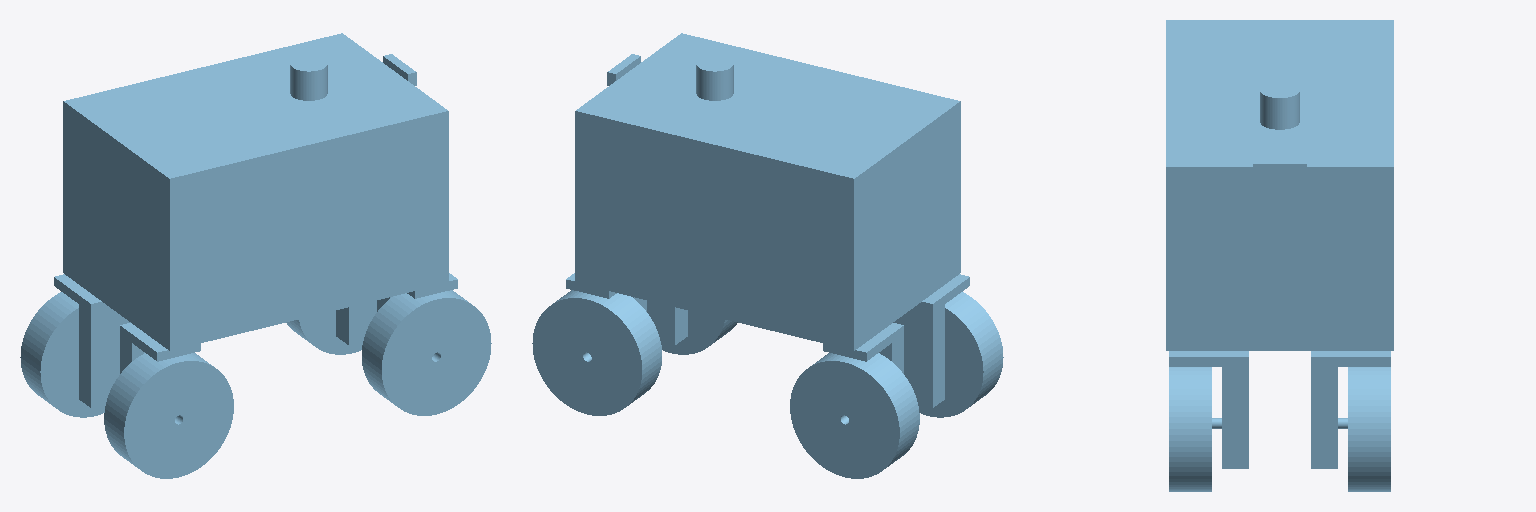
--- Facts derived from the render (not from the file) ---
3 views of the same robot in one strip: view 1: azimuth 30°, elevation 25°; view 2: azimuth 150°, elevation 25°; view 3: azimuth 270°, elevation 25° (orthographic).
Model rover with 19 links and 18 joints (4 revolute, 4 continuous, 10 fixed), rooted at base_footprint, posed every joint at zero.
Links seen in each view (by area): view 1: base_link, rr_wheel_link, fr_wheel_link, rl_wheel_link, rl_steering_link, fl_wheel_link, lidar_link, rr_steering_link, fl_steering_link; view 2: base_link, rl_wheel_link, fl_wheel_link, rr_wheel_link, rr_steering_link, fr_wheel_link, lidar_link, rl_steering_link, fr_steering_link; view 3: base_link, fr_wheel_link, fl_wheel_link, fr_steering_link, fl_steering_link, lidar_link, camera_link.
Link boxes in pixels (left/top/right/bottom): base_link: left=63, top=33, right=448, bottom=350; rr_wheel_link: left=104, top=353, right=233, bottom=478; fr_wheel_link: left=362, top=290, right=491, bottom=415; rl_wheel_link: left=20, top=292, right=105, bottom=417; rl_steering_link: left=54, top=274, right=130, bottom=407; fl_wheel_link: left=286, top=310, right=362, bottom=354; lidar_link: left=290, top=56, right=327, bottom=100; rr_steering_link: left=120, top=323, right=200, bottom=373; fl_steering_link: left=336, top=300, right=376, bottom=344; base_link: left=575, top=33, right=960, bottom=350; rl_wheel_link: left=790, top=353, right=919, bottom=478; fl_wheel_link: left=532, top=290, right=661, bottom=415; rr_wheel_link: left=918, top=292, right=1003, bottom=417; rr_steering_link: left=893, top=274, right=969, bottom=407; fr_wheel_link: left=661, top=310, right=737, bottom=354; lidar_link: left=696, top=56, right=733, bottom=100; rl_steering_link: left=823, top=323, right=903, bottom=373; fr_steering_link: left=647, top=300, right=687, bottom=344; base_link: left=1166, top=20, right=1393, bottom=350; fr_wheel_link: left=1169, top=367, right=1211, bottom=491; fl_wheel_link: left=1348, top=367, right=1390, bottom=491; fr_steering_link: left=1169, top=351, right=1248, bottom=468; fl_steering_link: left=1311, top=351, right=1390, bottom=468; lidar_link: left=1260, top=81, right=1299, bottom=129; camera_link: left=1253, top=159, right=1306, bottom=177.
Size in the robot's own frame: 0.849 by 0.425 by 0.732 metres.
Meshes: 5 distinct files referenced, 11 mesh visuals loaded (5 binary STL).

The robot description file, URDF, robot "rover":
<robot name="rover">
<link name="base_footprint">
<inertial>
<origin xyz="0 0 0" rpy="0 0 0"/>
<mass value="0" />
<inertia ixx="0" ixy="0"  ixz="0" iyy="0" iyz="0" izz="0" />
</inertial>
</link>

<link name="base_link">
<visual>
<origin xyz="-2.798540501062457092e-17 6.1093673644573049834e-18 0" rpy="0 -5.1977048828224496093e-113 0" />
<geometry>
<mesh filename="package://rover_description/urdf/rover/base_link.stl"/>
</geometry>
<material name="base_link_material">
<color rgba="0.61568627450980395466 0.81176470588235294379 0.92941176470588238168 1.0"/>
</material>
</visual>
<collision>
<origin xyz="-2.798540501062457092e-17 6.1093673644573049834e-18 0" rpy="0 -5.1977048828224496093e-113 0" />
<geometry>
<mesh filename="package://rover_description/urdf/rover/base_link.stl"/>
</geometry>
</collision>
<inertial>
<origin xyz="-5.5267729493257816212e-18 6.3769590725128424662e-18 0.19001085791228139454" rpy="0 0 0"/>
<mass value="40" />
<inertia ixx="1.0833233794146899243" ixy="-1.8675004218029757146e-16"  ixz="5.630795218859451012e-113" iyy="1.8679041881453550822" iyz="-9.7067160610783111063e-129" izz="1.9886593553962703673" />
</inertial>
</link>

<link name="rr_steering_link">
<visual>
<origin xyz="0 -0.099999999999999977796 -0.23000000000000000999" rpy="0 -0 -3.5371013739549831335e-45" />
<geometry>
<mesh filename="package://rover_description/urdf/rover/steering_link.stl"/>
</geometry>
<material name="steering_link_material">
<color rgba="0.61568627450980395466 0.81176470588235294379 0.92941176470588238168 1.0"/>
</material>
</visual>
<collision>
<origin xyz="0 -0.099999999999999977796 -0.23000000000000000999" rpy="0 -0 -3.5371013739549831335e-45" />
<geometry>
<mesh filename="package://rover_description/urdf/rover/steering_link.stl"/>
</geometry>
</collision>
<inertial>
<origin xyz="2.5048502339963977633e-18 -0.088691628255863019792 -0.10069461572907584257" rpy="0 0 0"/>
<mass value="0.99999999999999988898" />
<inertia ixx="0.0061121872660202690095" ixy="-3.5428631502324024239e-45"  ixz="5.4011044810356159022e-46" iyy="0.0059423770522869772542" iyz="-0.00091147906360536856338" izz="0.0018215670507348868425" />
</inertial>
</link>

<link name="rr_wheel_link">
<visual>
<origin xyz="0 0 0" rpy="1.570796326794896558 1.570796326794896558 0" />
<geometry>
<mesh filename="package://rover_description/urdf/rover/wheel.stl"/>
</geometry>
<material name="wheel_material">
<color rgba="0.61568627450980395466 0.81176470588235294379 0.92941176470588238168 1.0"/>
</material>
</visual>
<collision>
<origin xyz="0 0 0" rpy="1.570796326794896558 1.570796326794896558 0" />
<geometry>
<mesh filename="package://rover_description/urdf/rover/wheel.stl"/>
</geometry>
</collision>
<inertial>
<origin xyz="-1.8236700169436135526e-53 -1.0310768331388757477e-17 -3.6470232831486701118e-62" rpy="0 0 0"/>
<mass value="2" />
<inertia ixx="0.0091811666666666656017" ixy="0"  ixz="0" iyy="0.0091811666666666690712" iyz="9.6492095521497396071e-45" izz="0.01622900000000000037" />
</inertial>
</link>

<joint name="rr_wheel_joint" type="continuous">
<origin xyz="-1.1102230246251565404e-16 -0.014999999999999985567 -0.16000000000000000333" rpy="1.570796326794896558 1.570796326794896558 0" />
<parent link="rr_steering_link" />
<child link="rr_wheel_link" />
<axis xyz="0 0 1"/>
<limit effort="1.5" velocity="22" />
<joint_properties friction="0.0"/>
</joint>

<joint name="rr_steering_joint" type="revolute">
<origin xyz="-0.29750000000000176303 -0.18249999999999486078 0" rpy="2.7341918974960333747e-27 3.8285686989646017659e-16 -3.1415926535897691352" />
<parent link="base_link" />
<child link="rr_steering_link" />
<axis xyz="0 0 1"/>
<limit effort="1.5" velocity="22" lower="-3.141592653589793116" upper="3.141592653589793116"/>
<joint_properties friction="0.0"/>
</joint>

<link name="rl_steering_link">
<visual>
<origin xyz="0 -0.099999999999999991673 -0.23000000000000000999" rpy="0 -0 -6.4520195853714940548e-45" />
<geometry>
<mesh filename="package://rover_description/urdf/rover/steering_link.stl"/>
</geometry>
<material name="steering_link_material">
<color rgba="0.61568627450980395466 0.81176470588235294379 0.92941176470588238168 1.0"/>
</material>
</visual>
<collision>
<origin xyz="0 -0.099999999999999991673 -0.23000000000000000999" rpy="0 -0 -6.4520195853714940548e-45" />
<geometry>
<mesh filename="package://rover_description/urdf/rover/steering_link.stl"/>
</geometry>
</collision>
<inertial>
<origin xyz="2.5048502339963977633e-18 -0.08869162825586303367 -0.10069461572907584257" rpy="0 0 0"/>
<mass value="0.99999999999999988898" />
<inertia ixx="0.0061121872660202690095" ixy="-4.7249230382039756353e-45"  ixz="7.1868939724556140696e-46" iyy="0.0059423770522869772542" iyz="-0.00091147906360536856338" izz="0.0018215670507348868425" />
</inertial>
</link>

<link name="rl_wheel_link">
<visual>
<origin xyz="0 0 0" rpy="1.570796326794896558 1.570796326794896558 0" />
<geometry>
<mesh filename="package://rover_description/urdf/rover/wheel.stl"/>
</geometry>
<material name="wheel_material">
<color rgba="0.61568627450980395466 0.81176470588235294379 0.92941176470588238168 1.0"/>
</material>
</visual>
<collision>
<origin xyz="0 0 0" rpy="1.570796326794896558 1.570796326794896558 0" />
<geometry>
<mesh filename="package://rover_description/urdf/rover/wheel.stl"/>
</geometry>
</collision>
<inertial>
<origin xyz="-1.8236700169436135526e-53 -1.0310768331388757477e-17 1.176635466657525221e-97" rpy="0 0 0"/>
<mass value="2" />
<inertia ixx="0.0091811666666666656017" ixy="0"  ixz="-1.2855592675981450913e-44" iyy="0.0091811666666666690712" iyz="0" izz="0.01622900000000000037" />
</inertial>
</link>

<joint name="rl_wheel_joint" type="continuous">
<origin xyz="-5.5511151231257827021e-17 -0.015000000000000013323 -0.16000000000000000333" rpy="-1.570796326794896558 2.5243548967072377773e-29 -6.4520195853711717026e-45" />
<parent link="rl_steering_link" />
<child link="rl_wheel_link" />
<axis xyz="0 0 1"/>
<limit effort="1.5" velocity="22" />
<joint_properties friction="0.0"/>
</joint>

<joint name="rl_steering_joint" type="revolute">
<origin xyz="-0.2975000000000000977 0.18250000000000013434 0" rpy="-2.7468136719795358428e-27 -5.0532154981114325992e-16 1.6829674908629561938e-14" />
<parent link="base_link" />
<child link="rl_steering_link" />
<axis xyz="0 0 1"/>
<limit effort="1.5" velocity="22" lower="-3.141592653589793116" upper="3.141592653589793116"/>
<joint_properties friction="0.0"/>
</joint>

<link name="fr_steering_link">
<visual>
<origin xyz="5.5511151231257827021e-17 -0.10000000000000000555 -0.23000000000000000999" rpy="0 -0 0" />
<geometry>
<mesh filename="package://rover_description/urdf/rover/steering_link.stl"/>
</geometry>
<material name="steering_link_material">
<color rgba="0.61568627450980395466 0.81176470588235294379 0.92941176470588238168 1.0"/>
</material>
</visual>
<collision>
<origin xyz="5.5511151231257827021e-17 -0.10000000000000000555 -0.23000000000000000999" rpy="0 -0 0" />
<geometry>
<mesh filename="package://rover_description/urdf/rover/steering_link.stl"/>
</geometry>
</collision>
<inertial>
<origin xyz="5.8016001465254228636e-17 -0.088691628255863047547 -0.10069461572907584257" rpy="0 0 0"/>
<mass value="0.99999999999999988898" />
<inertia ixx="0.0061121872660202690095" ixy="0"  ixz="0" iyy="0.0059423770522869772542" iyz="-0.00091147906360536856338" izz="0.0018215670507348868425" />
</inertial>
</link>

<link name="fr_wheel_link">
<visual>
<origin xyz="0 0 0" rpy="1.570796326794896558 1.570796326794896558 0" />
<geometry>
<mesh filename="package://rover_description/urdf/rover/wheel.stl"/>
</geometry>
<material name="wheel_material">
<color rgba="0.61568627450980395466 0.81176470588235294379 0.92941176470588238168 1.0"/>
</material>
</visual>
<collision>
<origin xyz="0 0 0" rpy="1.570796326794896558 1.570796326794896558 0" />
<geometry>
<mesh filename="package://rover_description/urdf/rover/wheel.stl"/>
</geometry>
</collision>
<inertial>
<origin xyz="-1.8236700169436135526e-53 -1.0310768331388757477e-17 -3.3108659528003041048e-75" rpy="0 0 0"/>
<mass value="2" />
<inertia ixx="0.0091811666666666656017" ixy="0"  ixz="0" iyy="0.0091811666666666690712" iyz="1.280242363083174067e-32" izz="0.01622900000000000037" />
</inertial>
</link>

<joint name="fr_wheel_joint" type="continuous">
<origin xyz="5.5511151231257827021e-17 -0.014999999999999985567 -0.16000000000000000333" rpy="1.570796326794896558 1.570796326794896558 0" />
<parent link="fr_steering_link" />
<child link="fr_wheel_link" />
<axis xyz="0 0 1"/>
<limit effort="1.5" velocity="22" />
<joint_properties friction="0.0"/>
</joint>

<joint name="fr_steering_joint" type="revolute">
<origin xyz="0.29749999999999998668 -0.18250000000000007883 0" rpy="1.1864468014523915315e-27 3.5032461608120426773e-46 -3.141592653589793116" />
<parent link="base_link" />
<child link="fr_steering_link" />
<axis xyz="0 0 1"/>
<limit effort="1.5" velocity="22" lower="-3.141592653589793116" upper="3.141592653589793116"/>
<joint_properties friction="0.0"/>
</joint>

<link name="fl_steering_link">
<visual>
<origin xyz="0 -0.10000000000000000555 -0.23000000000000000999" rpy="0 -0 2.7904965608089986245e-104" />
<geometry>
<mesh filename="package://rover_description/urdf/rover/steering_link.stl"/>
</geometry>
<material name="steering_link_material">
<color rgba="0.61568627450980395466 0.81176470588235294379 0.92941176470588238168 1.0"/>
</material>
</visual>
<collision>
<origin xyz="0 -0.10000000000000000555 -0.23000000000000000999" rpy="0 -0 2.7904965608089986245e-104" />
<geometry>
<mesh filename="package://rover_description/urdf/rover/steering_link.stl"/>
</geometry>
</collision>
<inertial>
<origin xyz="2.5048502339963977633e-18 -0.088691628255863047547 -0.10069461572907584257" rpy="0 0 0"/>
<mass value="0.99999999999999988898" />
<inertia ixx="0.0061121872660202690095" ixy="4.7385481741334085412e-108"  ixz="2.5434791922401337913e-107" iyy="0.0059423770522869772542" iyz="-0.00091147906360536856338" izz="0.0018215670507348868425" />
</inertial>
</link>

<link name="fl_wheel_link">
<visual>
<origin xyz="0 -2.7755575615628913511e-17 0" rpy="1.570796326794896558 1.570796326794896558 0" />
<geometry>
<mesh filename="package://rover_description/urdf/rover/wheel.stl"/>
</geometry>
<material name="wheel_material">
<color rgba="0.61568627450980395466 0.81176470588235294379 0.92941176470588238168 1.0"/>
</material>
</visual>
<collision>
<origin xyz="0 -2.7755575615628913511e-17 0" rpy="1.570796326794896558 1.570796326794896558 0" />
<geometry>
<mesh filename="package://rover_description/urdf/rover/wheel.stl"/>
</geometry>
</collision>
<inertial>
<origin xyz="-1.8236700169436135526e-53 -3.8066343947017672528e-17 -2.212099860970205564e-86" rpy="0 0 0"/>
<mass value="2" />
<inertia ixx="0.0091811666666666656017" ixy="0"  ixz="3.0822366781446657224e-35" iyy="0.0091811666666666690712" iyz="0" izz="0.01622900000000000037" />
</inertial>
</link>

<joint name="fl_wheel_joint" type="continuous">
<origin xyz="0 -0.015000000000000041078 -0.16000000000000000333" rpy="-1.570796326794896558 -5.5511151231257925629e-17 -5.1336471294911238066e-17" />
<parent link="fl_steering_link" />
<child link="fl_wheel_link" />
<axis xyz="0 0 1"/>
<limit effort="1.5" velocity="22" />
<joint_properties friction="0.0"/>
</joint>

<joint name="fl_steering_joint" type="revolute">
<origin xyz="0.29749999999999993117 0.18250000000000002331 0" rpy="-1.1864468014524126967e-27 1.0593816390296488477e-42 8.8817841970015442019e-16" />
<parent link="base_link" />
<child link="fl_steering_link" />
<axis xyz="0 0 1"/>
<limit effort="1.5" velocity="22" lower="-3.141592653589793116" upper="3.141592653589793116"/>
<joint_properties friction="0.0"/>
</joint>

<link name="lidar_link">
<visual>
<origin xyz="0 -2.2962127484012875716e-18 -0.029000000000000025757" rpy="0 -0 0" />
<geometry>
<mesh filename="package://rover_description/urdf/rover/lidar_link.stl"/>
</geometry>
<material name="lidar_link_material">
<color rgba="0.61568627450980395466 0.81176470588235294379 0.92941176470588238168 1.0"/>
</material>
</visual>
<collision>
<origin xyz="0 -2.2962127484012875716e-18 -0.029000000000000025757" rpy="0 -0 0" />
<geometry>
<mesh filename="package://rover_description/urdf/rover/lidar_link.stl"/>
</geometry>
</collision>
<inertial>
<origin xyz="8.0292509306519218601e-19 3.8518598887744717061e-34 0.003499999999999975353" rpy="0 0 0"/>
<mass value="0.30209358607378605788" />
<inertia ixx="0.0002125668931175443005" ixy="2.7664970832468516446e-129"  ixz="0" iyy="0.0002125668931175443276" iyz="0" izz="0.00021240955270813093687" />
</inertial>
</link>

<joint name="lidar_joint" type="fixed">
<origin xyz="0.12249999999999997002 6.1093673644576578138e-18 0.40899999999999997469" rpy="-9.5925486074876183482e-28 5.5637880468010420896e-97 4.6894542932646612788e-70" />
<parent link="base_link" />
<child link="lidar_link" />
<axis xyz="0 0 1"/>
<limit effort="1.5" velocity="22" />
<joint_properties friction="0.0"/>
</joint>

<link name="imu_link">
<inertial>
<origin xyz="0 0 0" rpy="0 0 0"/>
<mass value="0" />
<inertia ixx="0" ixy="0"  ixz="0" iyy="0" iyz="0" izz="0" />
</inertial>
</link>

<joint name="imu_joint" type="fixed">
<origin xyz="0.12249999999999997002 6.1093673644576593545e-18 0.40899999999999997469" rpy="-5.5511151232446270627e-17 8.9923910584377721832e-16 -2.7117093616972959565e-31" />
<parent link="base_link" />
<child link="imu_link" />
<axis xyz="0 0 1"/>
<limit effort="1.5" velocity="22" />
<joint_properties friction="0.0"/>
</joint>

<link name="gps_link">
<inertial>
<origin xyz="0 0 0" rpy="0 0 0"/>
<mass value="0" />
<inertia ixx="0" ixy="0"  ixz="0" iyy="0" iyz="0" izz="0" />
</inertial>
</link>

<joint name="gps_joint" type="fixed">
<origin xyz="0.12249999999999997002 6.1093673644576608953e-18 0.40899999999999997469" rpy="-5.5511151232457807718e-17 8.9923910584377721832e-16 -2.4651903288156579508e-31" />
<parent link="base_link" />
<child link="gps_link" />
<axis xyz="0 0 1"/>
<limit effort="1.5" velocity="22" />
<joint_properties friction="0.0"/>
</joint>

<link name="camera_link">
<visual>
<origin xyz="-0.010000000000000008882 0 -2.3322217863181845357e-17" rpy="-1.570796326794896558 1.570796326794896558 0" />
<geometry>
<mesh filename="package://rover_description/urdf/rover/camera_link.stl"/>
</geometry>
<material name="camera_link_material">
<color rgba="0.61568627450980395466 0.81176470588235294379 0.92941176470588238168 1.0"/>
</material>
</visual>
<collision>
<origin xyz="-0.010000000000000008882 0 -2.3322217863181845357e-17" rpy="-1.570796326794896558 1.570796326794896558 0" />
<geometry>
<mesh filename="package://rover_description/urdf/rover/camera_link.stl"/>
</geometry>
</collision>
<inertial>
<origin xyz="-0.010293814432989699739 5.5548728130610748964e-18 -2.0678055447695336036e-17" rpy="0 0 0"/>
<mass value="0.061226400000000021084" />
<inertia ixx="5.5992700000000003482e-05" ixy="0"  ixz="3.0245200390706104662e-21" iyy="5.3249479313402056538e-05" iyz="0" izz="6.5985393134020647296e-06" />
</inertial>
</link>

<joint name="camera_joint" type="fixed">
<origin xyz="0.34249999999999997113 6.1093673644585314156e-18 0.38000000000000005995" rpy="-1.570796326794896558 -6.1232339957370680217e-17 -6.1232339957366809868e-17" />
<parent link="base_link" />
<child link="camera_link" />
<axis xyz="0 0 1"/>
<limit effort="1.5" velocity="22" />
<joint_properties friction="0.0"/>
</joint>

<joint name="base_link_joint" type="fixed">
<origin xyz="-6.1629758220391547298e-33 -3.5360073778949650262e-31 0.28699999999999997735" rpy="1.1864468014523915315e-27 -0 -2.1680136497538192772e-70" />
<parent link="base_footprint" />
<child link="base_link" />
<axis xyz="0 0 1"/>
<limit effort="1.5" velocity="22" />
<joint_properties friction="0.0"/>
</joint>

<ros2_control name="GazeboSystem" type="system">
<hardware>
    <plugin>gazebo_ros2_control/GazeboSystem</plugin>
</hardware>

<joint name="fl_wheel_joint">
    <command_interface name="velocity">
    <param name="min">-3.14</param>
    <param name="max">3.14</param>
    </command_interface>
    <state_interface name="velocity"/>
    <state_interface name="effort"/>
</joint>

<joint name="fr_wheel_joint">
    <command_interface name="velocity">
    <param name="min">-3.14</param>
    <param name="max">3.14</param>
    </command_interface>
    <state_interface name="velocity"/>
    <state_interface name="effort"/>
</joint>

<joint name="rl_wheel_joint">
    <command_interface name="velocity">
    <param name="min">-3.14</param>
    <param name="max">3.14</param>
    </command_interface>
    <state_interface name="velocity"/>
    <state_interface name="effort"/>
</joint>

<joint name="rr_wheel_joint">
    <command_interface name="velocity">
    <param name="min">-3.14</param>
    <param name="max">3.14</param>
    </command_interface>
    <state_interface name="velocity"/>
    <state_interface name="effort"/>
</joint>

<joint name="fl_steering_joint">
    <command_interface name="position">
    <param name="min">-3.14</param>
    <param name="max">3.14</param>
    </command_interface>
    <state_interface name="position"/>
    <state_interface name="effort"/>
</joint>

<joint name="fr_steering_joint">
    <command_interface name="position">
    <param name="min">-3.14</param>
    <param name="max">3.14</param>
    </command_interface>
    <state_interface name="position"/>
    <state_interface name="effort"/>
</joint>

<joint name="rl_steering_joint">
    <command_interface name="position">
    <param name="min">-3.14</param>
    <param name="max">3.14</param>
    </command_interface>
    <state_interface name="position"/>
    <state_interface name="effort"/>
</joint>

<joint name="rr_steering_joint">
    <command_interface name="position">
    <param name="min">-3.14</param>
    <param name="max">3.14</param>
    </command_interface>
    <state_interface name="position"/>
    <state_interface name="effort"/>
</joint>
</ros2_control>

<gazebo>
<plugin name="four_ws_robot_joint_state" filename="libgazebo_ros_joint_state_publisher.so">
    <ros>
    <remapping>~/out:=joint_states</remapping>
    </ros>
    <update_rate>30</update_rate>
    <joint_name>fl_wheel_joint</joint_name>
    <joint_name>fr_wheel_joint</joint_name>
    <joint_name>rl_wheel_joint</joint_name>
    <joint_name>rr_wheel_joint</joint_name>
    <joint_name>fl_steering_joint</joint_name>
    <joint_name>fr_steering_joint</joint_name>
    <joint_name>rl_steering_joint</joint_name>
    <joint_name>rr_steering_joint</joint_name>
</plugin>

<plugin name="gazebo_ros2_control" filename="libgazebo_ros2_control.so">
    <parameters>[local-path]/ros2_ws/install/rover_description/share/rover_description/config/controllers.yaml</parameters>
</plugin>
</gazebo>

<gazebo reference="lidar_link">
<sensor name="lidar" type="ray">
    <pose>0 0 0 0 0 0</pose>
    <always_on>true</always_on>
    <visualize>false</visualize>
    <update_rate>10</update_rate>
    <ray>
    <scan>
        <horizontal>
        <samples>360</samples>
        <resolution>1.00000</resolution>
        <min_angle>0.000000</min_angle>
        <max_angle>6.280000</max_angle>
        </horizontal>
        <vertical>
        <samples>90</samples>
        <resolution>1.00000</resolution>
        <min_angle>0.0</min_angle>
        <max_angle>1.5708</max_angle>
        </vertical>
    </scan>
    <range>
        <min>0.10</min>
        <max>30.00</max>
        <resolution>0.015000</resolution>
    </range>
    <noise>
        <type>gaussian</type>
        <mean>0.0</mean>
        <stddev>0.01</stddev>
    </noise>
    </ray>
    <plugin name="scan" filename="libgazebo_ros_ray_sensor.so">
    <ros>
        <namespace>rover</namespace>
        <remapping>~/out:=unitree/lidar_points</remapping>
    </ros>
    <output_type>sensor_msgs/PointCloud2</output_type>
    <frame_name>lidar_link</frame_name>
    </plugin>
</sensor>
</gazebo>
<gazebo reference="imu_link">
<sensor name="imu_sensor" type="imu">
    <pose>0 0 0 0 0 0</pose>
    <always_on>true</always_on>
    <update_rate>10.0</update_rate>

    <imu>
    <angular_velocity>
        <noise>
        <type>gaussian</type>
        <mean>0.0</mean>
        <stddev>0.01</stddev>
        </noise>
    </angular_velocity>

    <linear_acceleration>
        <noise>
        <type>gaussian</type>
        <mean>0.0</mean>
        <stddev>0.01</stddev>
        </noise>
    </linear_acceleration>

    <orientation>
        <noise>
        <type>gaussian</type>
        <mean>0.0</mean>
        <stddev>0.001</stddev>
        </noise>
    </orientation>
    </imu>

    <plugin name="imu_sensor_plugin" filename="libgazebo_ros_imu_sensor.so">
    <ros>
        <namespace>rover</namespace>
        <remapping>~/out:=unitree/imu</remapping>
    </ros>
    <frame_name>imu_link</frame_name>
    </plugin>
</sensor>
</gazebo>
<gazebo reference="gps_link">
<sensor name="gps_sensor" type="gps">
    <pose>0 0 0 0 0 0</pose>
    <always_on>true</always_on>
    <update_rate>10.0</update_rate>

    <plugin name="gps_sensor_plugin" filename="libgazebo_ros_gps_sensor.so">
    <ros>
        <namespace>rover</namespace>
        <remapping>~/out:=gps/rawdata</remapping>
    </ros>
    <frame_name>gps_link</frame_name>
    </plugin>
</sensor>
</gazebo>
<gazebo reference="camera_link">
    <sensor name="depth_camera" type="depth">
        <pose>0 0 0 0 0 0</pose>
        <always_on>true</always_on>
        <update_rate>30</update_rate>
        <camera>
            <horizontal_fov>1.047</horizontal_fov>
            <image>
            <width>640</width>
            <height>480</height>
            <format>R8G8B8</format>
            </image>
            <clip>
            <near>0.4</near>
            <far>10</far>
            </clip>
        </camera>
        <plugin name="gazebo_ros_camera" filename="libgazebo_ros_camera.so">
            <ros>
                <namespace>rover</namespace>
            </ros>
            <camera_name>camera</camera_name>
            <frame_name>camera_frame</frame_name>

            <image_topic>camera/color/image_raw</image_topic>
            <camera_info_topic>camera/color/camera_info</camera_info_topic>
            
            <depth_image>true</depth_image>
            <depth_image_topic>camera/depth/image_raw</depth_image_topic>
            <depth_camera_info_topic>camera/depth/camera_info</depth_camera_info_topic>
            
            <point_cloud>true</point_cloud>
            <point_cloud_topic>camera/depth/points</point_cloud_topic>
        </plugin>
    </sensor>
</gazebo>


<link name="camera_frame">
    <inertial>
    <origin xyz="0 0 0" rpy="0 0 0"/>
    <mass value="0" />
    <inertia ixx="0" ixy="0"  ixz="0" iyy="0" iyz="0" izz="0" />
    </inertial>
</link>
<joint name="camera_frame_joint" type="fixed">
    <origin xyz="0 0 0" rpy="1.5708 3.1416 1.5708" />
    <parent link="camera_link" />
    <child link="camera_frame" />
    <axis xyz="0 0 1"/>
    <limit effort="1.5" velocity="22" />
    <joint_properties friction="0.0"/>
</joint>
<link name="camera_color_frame">
    <inertial>
    <origin xyz="0 0 0" rpy="0 0 0"/>
    <mass value="0" />
    <inertia ixx="0" ixy="0"  ixz="0" iyy="0" iyz="0" izz="0" />
    </inertial>
</link>
<joint name="camera_color_frame_joint" type="fixed">
    <origin xyz="0 0 0" rpy="0 0 0" />
    <parent link="camera_link" />
    <child link="camera_color_frame" />
    <axis xyz="0 0 1"/>
    <limit effort="1.5" velocity="22" />
    <joint_properties friction="0.0"/>
</joint>
<link name="camera_color_optical_frame">
    <inertial>
    <origin xyz="0 0 0" rpy="0 0 0"/>
    <mass value="0" />
    <inertia ixx="0" ixy="0"  ixz="0" iyy="0" iyz="0" izz="0" />
    </inertial>
</link>
<joint name="camera_color_optical_frame_joint" type="fixed">
    <origin xyz="0 0 0" rpy="0 0 0" />
    <parent link="camera_link" />
    <child link="camera_color_optical_frame" />
    <axis xyz="0 0 1"/>
    <limit effort="1.5" velocity="22" />
    <joint_properties friction="0.0"/>
</joint>
<link name="camera_depth_frame">
    <inertial>
    <origin xyz="0 0 0" rpy="0 0 0"/>
    <mass value="0" />
    <inertia ixx="0" ixy="0"  ixz="0" iyy="0" iyz="0" izz="0" />
    </inertial>
</link>
<joint name="camera_depth_frame_joint" type="fixed">
    <origin xyz="0 0 0" rpy="0 0 0" />
    <parent link="camera_link" />
    <child link="camera_depth_frame" />
    <axis xyz="0 0 1"/>
    <limit effort="1.5" velocity="22" />
    <joint_properties friction="0.0"/>
</joint>
<link name="camera_depth_optical_frame">
    <inertial>
    <origin xyz="0 0 0" rpy="0 0 0"/>
    <mass value="0" />
    <inertia ixx="0" ixy="0"  ixz="0" iyy="0" iyz="0" izz="0" />
    </inertial>
</link>
<joint name="camera_depth_optical_frame_joint" type="fixed">
    <origin xyz="0 0 0" rpy="0 0 0" />
    <parent link="camera_link" />
    <child link="camera_depth_optical_frame" />
    <axis xyz="0 0 1"/>
    <limit effort="1.5" velocity="22" />
    <joint_properties friction="0.0"/>
</joint>
</robot>
